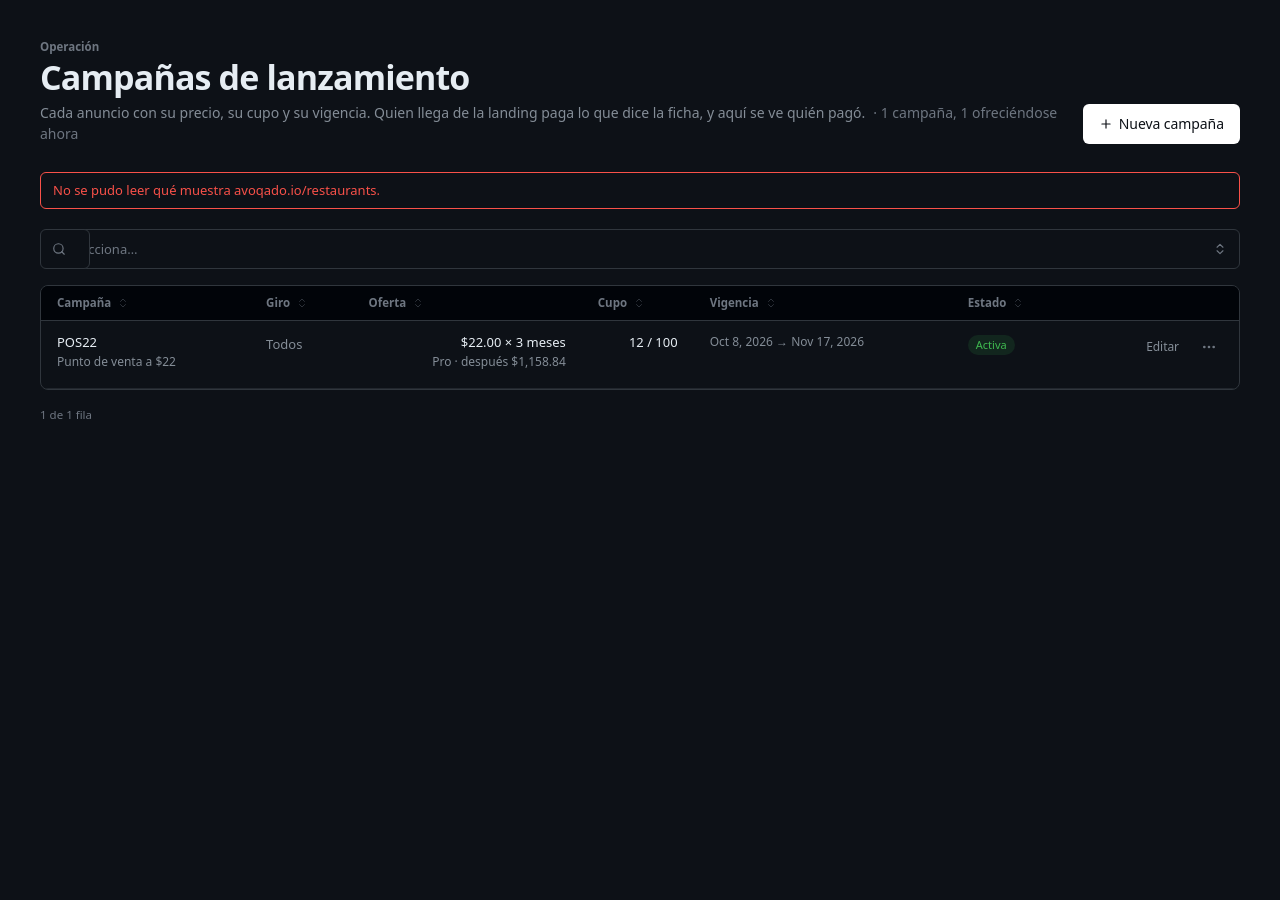
Test: LaunchCampaignDetail (desde la lista) › avisa de los lugares apartados hace más de 30 minutos
The image size is (1280, 900).
Click the text "POS22".
click(77, 343)  # box [57, 333, 97, 353]
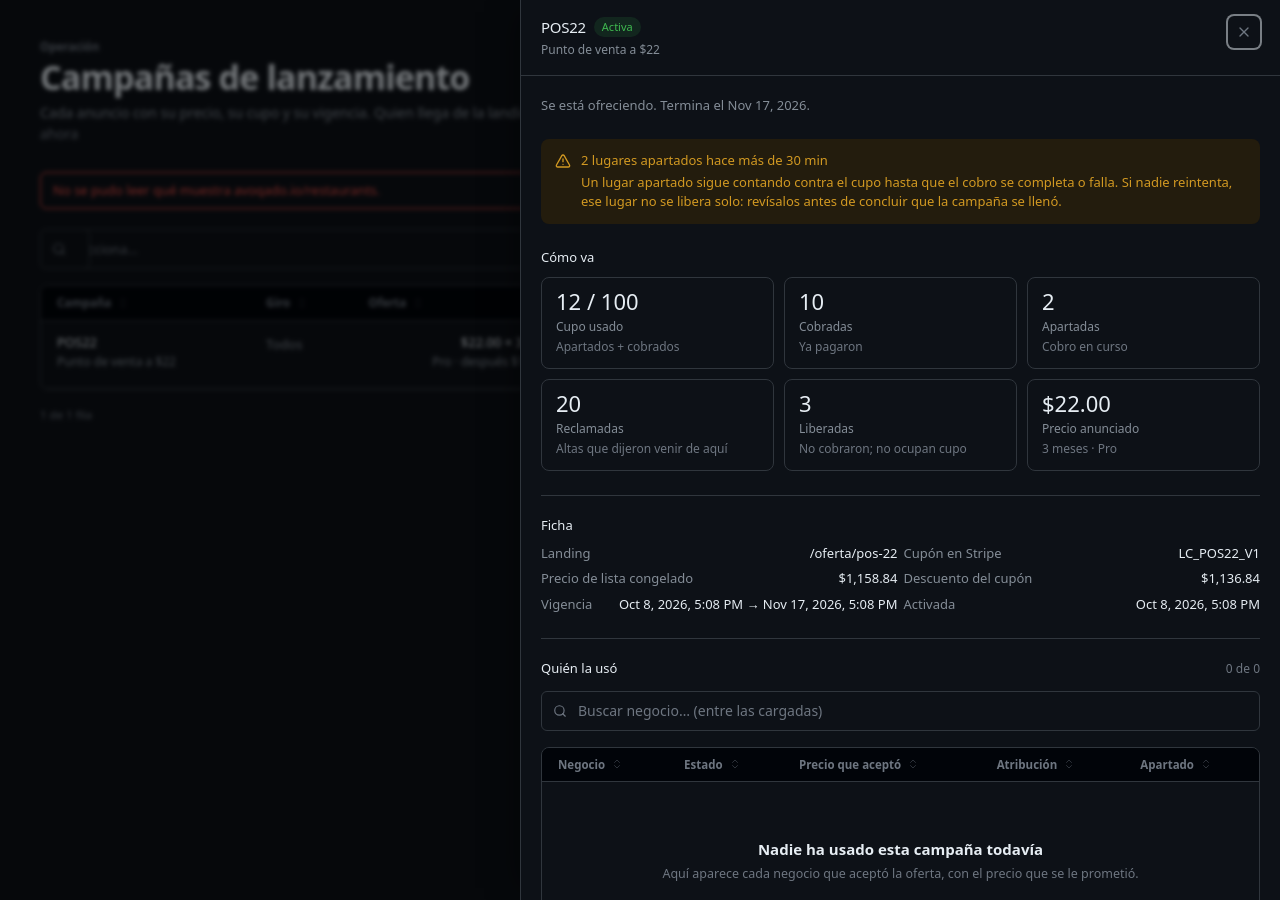
Now the text "2 lugares apartados hace más de 30 min" is shown, box [581, 151, 828, 169]
